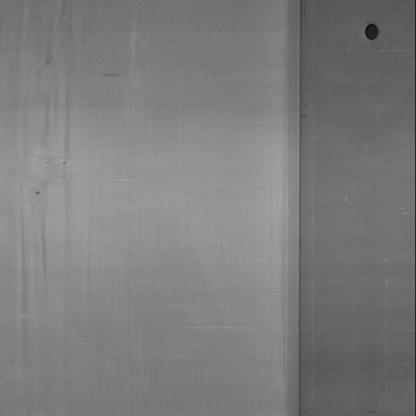punching_hole: (356, 17, 390, 43)
welding_line: (285, 0, 325, 414)
